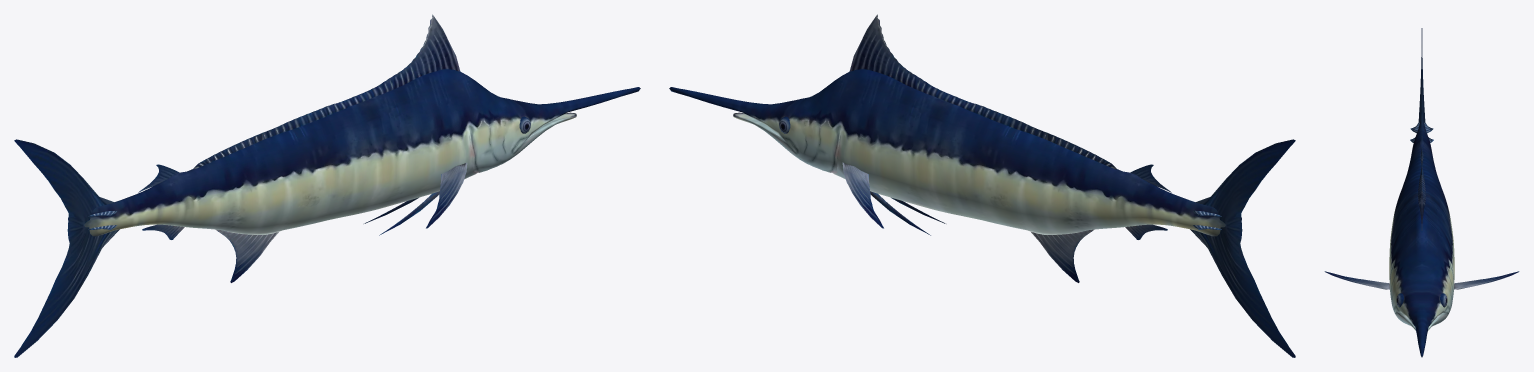
Rendered from swordfish.glb.
The picture shows the model from 3 angles, left to right: view 1: azimuth 30°, elevation 25°; view 2: azimuth 150°, elevation 25°; view 3: azimuth 270°, elevation 25°; orthographic projection. The views are drawn at different scales.
Parts seen in each view (by area): view 1: Object_2.001; view 2: Object_2.001; view 3: Object_2.001.
Part boxes in pixels (x1=…): Object_2.001: x1=14, y1=14, x2=640, y2=357; Object_2.001: x1=669, y1=14, x2=1295, y2=357; Object_2.001: x1=1324, y1=28, x2=1519, y2=357.
Bounding box in the file's own units: 1 × 0.3693 × 0.3198.
Materials: 1 (1 with a texture image).
